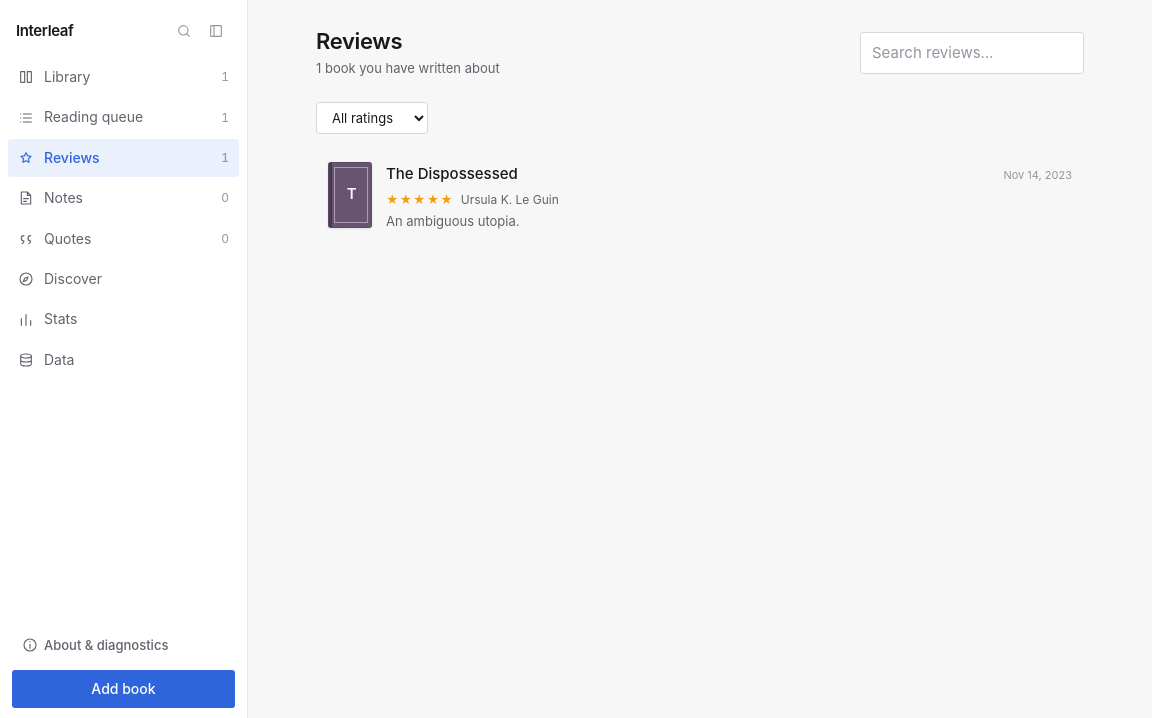
Test case: the back control on a book › names the review when a book was opened from one
Click the button with test id "review-row" at (350, 195), box x1=316 y1=150 x2=1084 y2=243
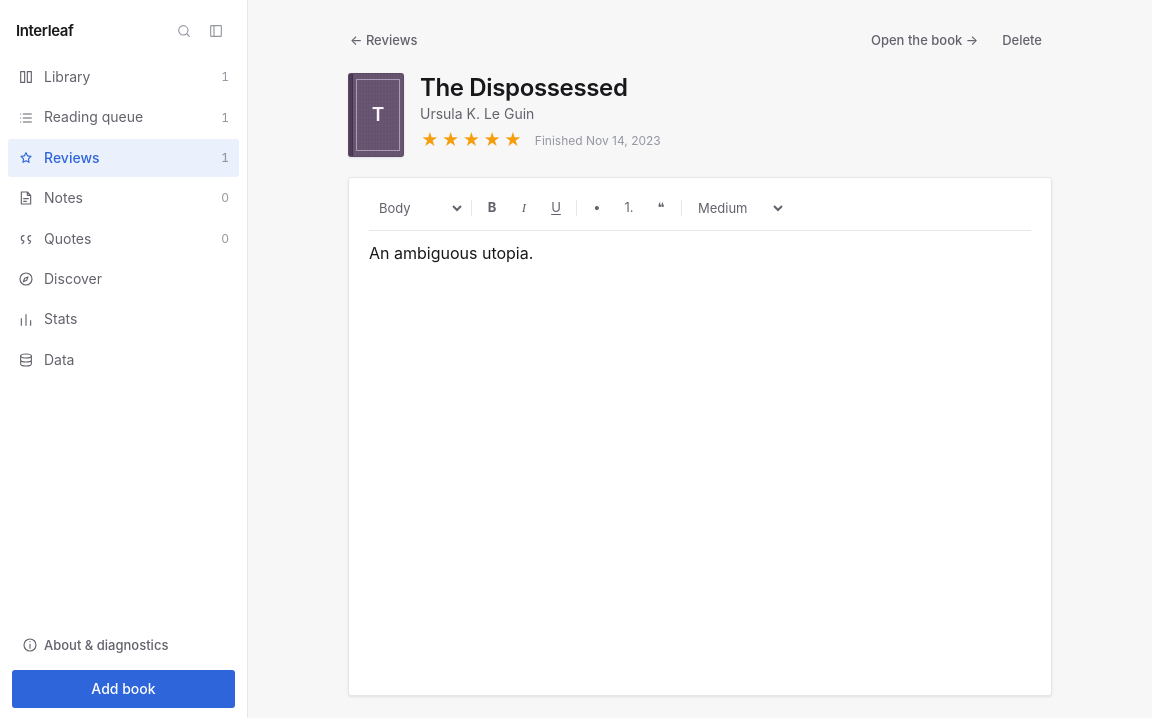
Click the button "Open the book →" at (925, 40), box x1=861 y1=24 x2=988 y2=57
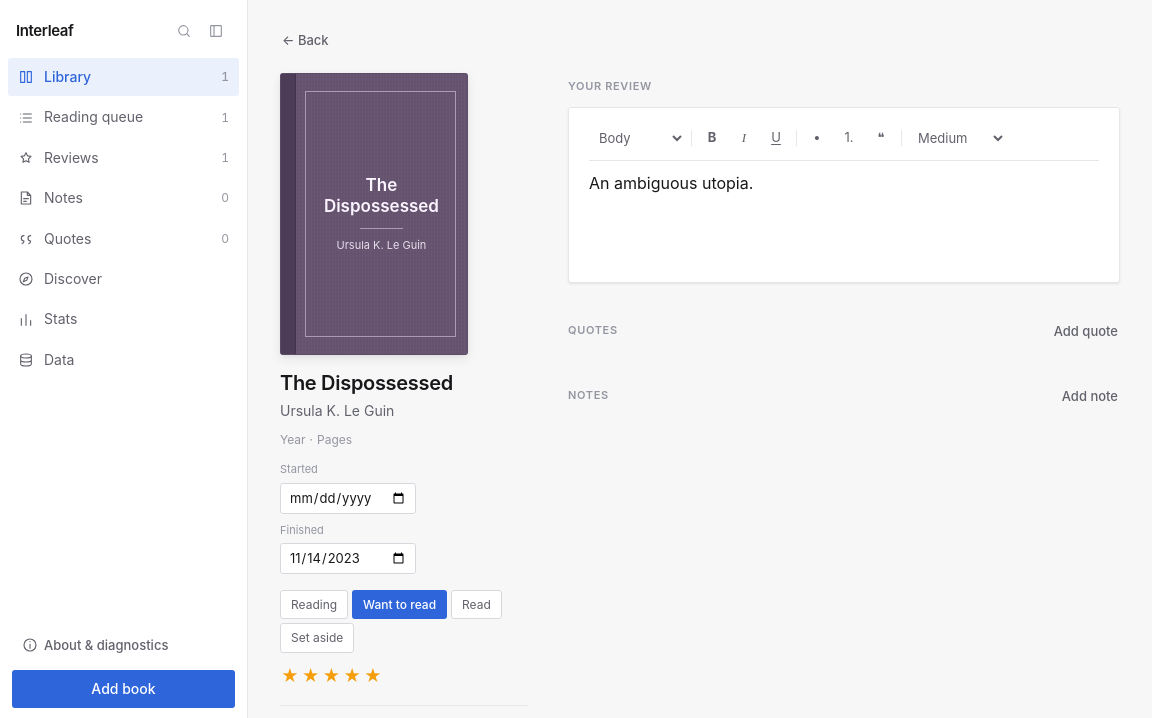
Expected: the button "← Back" is shown, x1=272 y1=24 x2=339 y2=57
